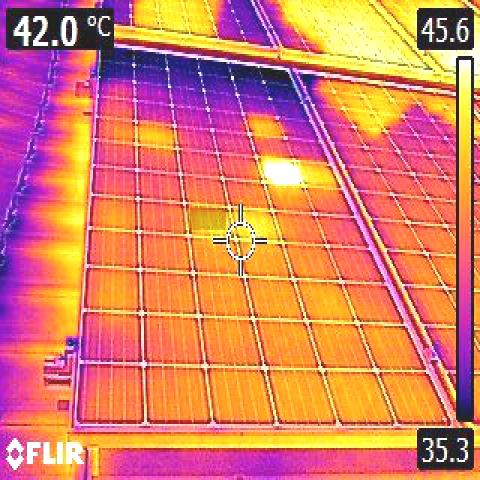fault: (263, 160, 300, 184), (190, 208, 226, 230)
